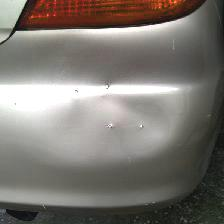bumper_dent: (43, 74, 182, 166)
